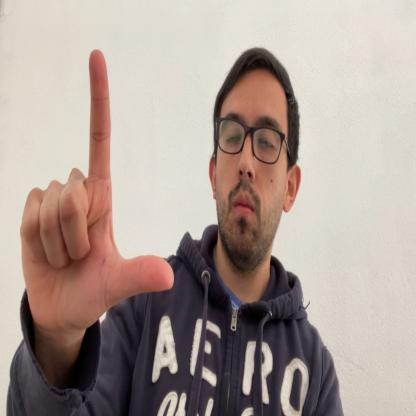L: (20, 47, 174, 341)
